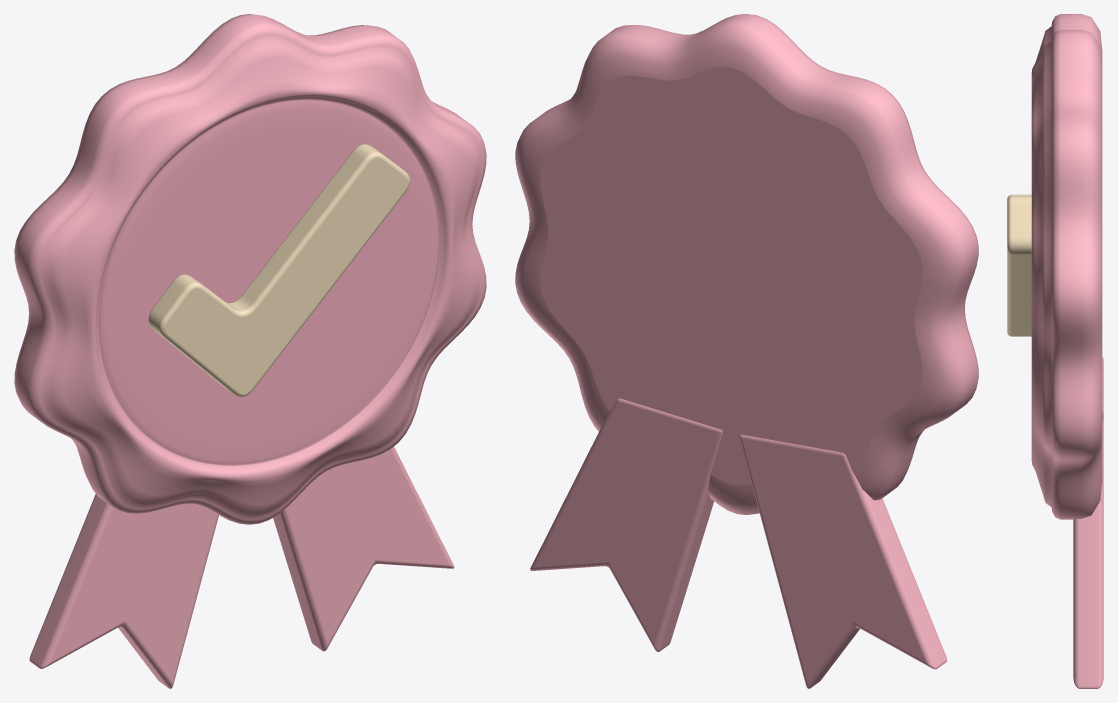
The model's file is iam.glb.
3 renders of one model, left to right at view 1: azimuth 30°, elevation 25°; view 2: azimuth 150°, elevation 25°; view 3: azimuth 270°, elevation 25°, orthographic. The views are drawn at different scales.
Visible parts, largest first — view 1: Scalloped ruby seal, Inset ruby face, Raised ivory check, Left ribbon tail, Right ribbon tail; view 2: Scalloped ruby seal, Left ribbon tail, Right ribbon tail; view 3: Scalloped ruby seal, Right ribbon tail, Raised ivory check.
Part boxes in pixels (box(x1,y1,x2,y2)): Scalloped ruby seal: box(14, 14, 486, 524); Inset ruby face: box(98, 99, 439, 465); Raised ivory check: box(148, 144, 410, 396); Left ribbon tail: box(29, 494, 218, 688); Right ribbon tail: box(273, 446, 454, 651); Scalloped ruby seal: box(515, 14, 978, 514); Left ribbon tail: box(739, 434, 946, 688); Right ribbon tail: box(530, 398, 722, 651); Scalloped ruby seal: box(1031, 14, 1102, 519); Right ribbon tail: box(1073, 420, 1103, 688); Raised ivory check: box(1007, 194, 1031, 336).
Size of the model in its own units: 1.95 by 2.66 by 0.382.
